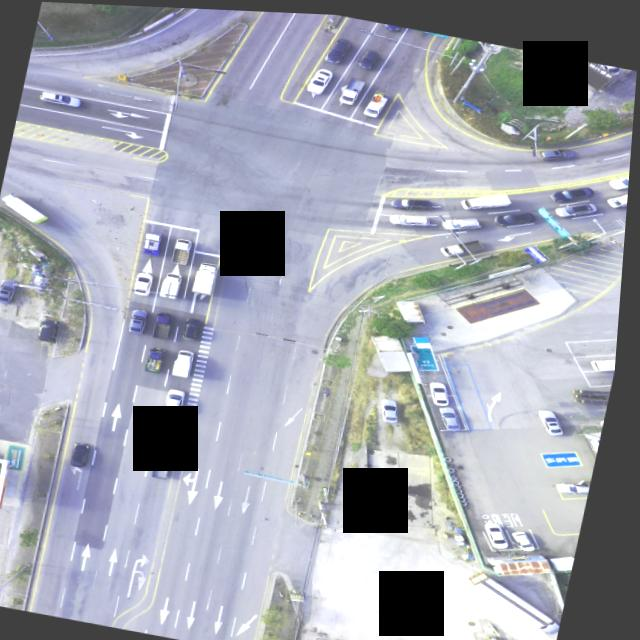car: (550, 173, 601, 202), (557, 191, 602, 218), (501, 203, 542, 228), (445, 208, 488, 231), (398, 190, 444, 210), (542, 403, 576, 430), (393, 209, 437, 229), (536, 139, 577, 160), (40, 91, 84, 109), (308, 64, 335, 93), (327, 35, 354, 64), (492, 520, 522, 545), (519, 524, 551, 547), (444, 403, 472, 429), (438, 406, 466, 432), (41, 314, 66, 343), (0, 278, 25, 306), (433, 377, 459, 403), (563, 473, 598, 492), (384, 393, 409, 419), (78, 440, 101, 467), (134, 306, 156, 333), (171, 386, 194, 411), (166, 418, 189, 443), (610, 161, 632, 187), (139, 269, 161, 294), (358, 45, 380, 68), (187, 318, 209, 341), (385, 20, 405, 29)
medium_truck: (471, 565, 578, 630), (0, 190, 56, 223), (193, 257, 224, 297), (578, 380, 616, 403)
small_bus: (595, 344, 621, 367)
small_truck: (461, 183, 515, 213), (442, 231, 490, 259), (343, 74, 370, 104), (176, 347, 202, 378), (606, 176, 631, 205), (165, 268, 189, 298), (367, 88, 393, 115), (145, 228, 170, 256), (176, 238, 201, 266), (159, 313, 182, 342), (158, 448, 181, 476), (149, 345, 172, 372)
